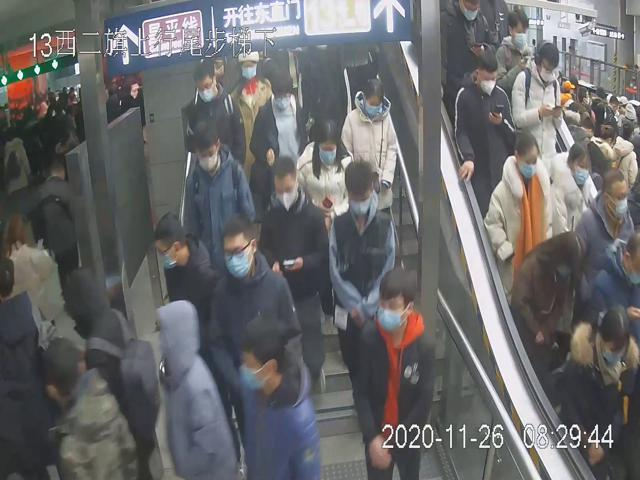person: (209, 214, 302, 410), (352, 264, 436, 480), (257, 157, 328, 400), (328, 161, 396, 389), (481, 127, 554, 305), (181, 117, 256, 260), (452, 48, 514, 217), (152, 210, 216, 366), (340, 73, 399, 200), (180, 61, 246, 172), (293, 117, 354, 222), (249, 66, 308, 170), (225, 43, 273, 164)
